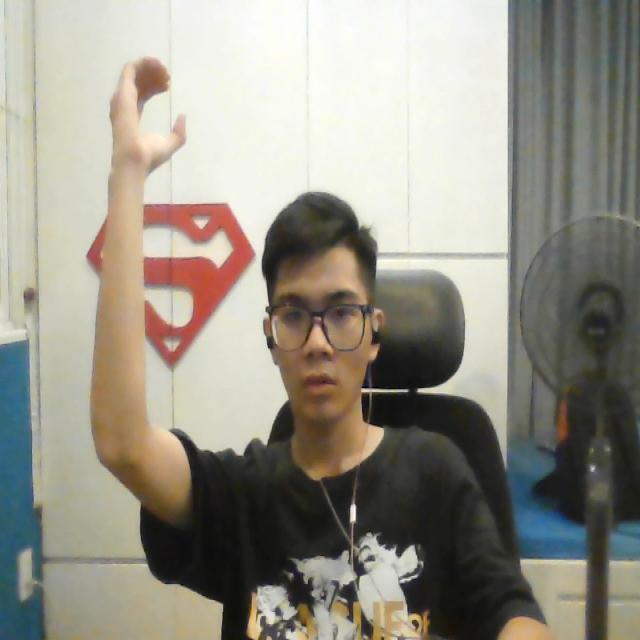C: (96, 59, 193, 178)
